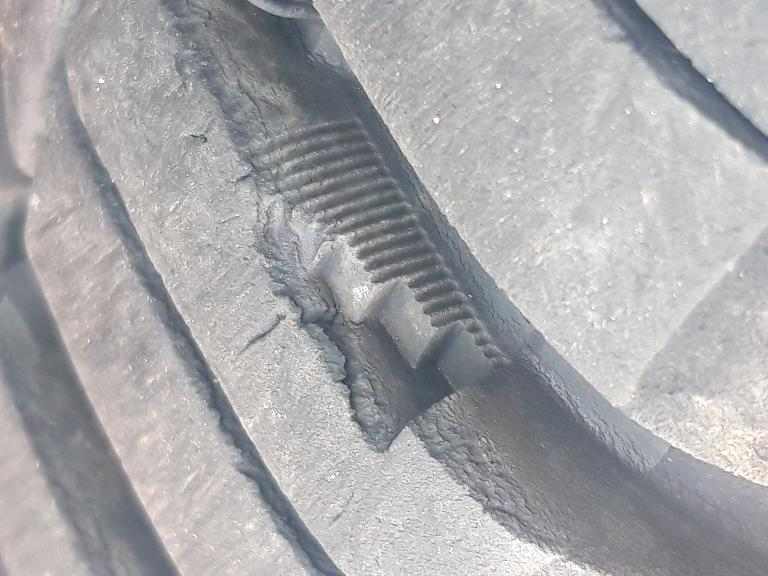temoin:80: (202, 110, 521, 465)
